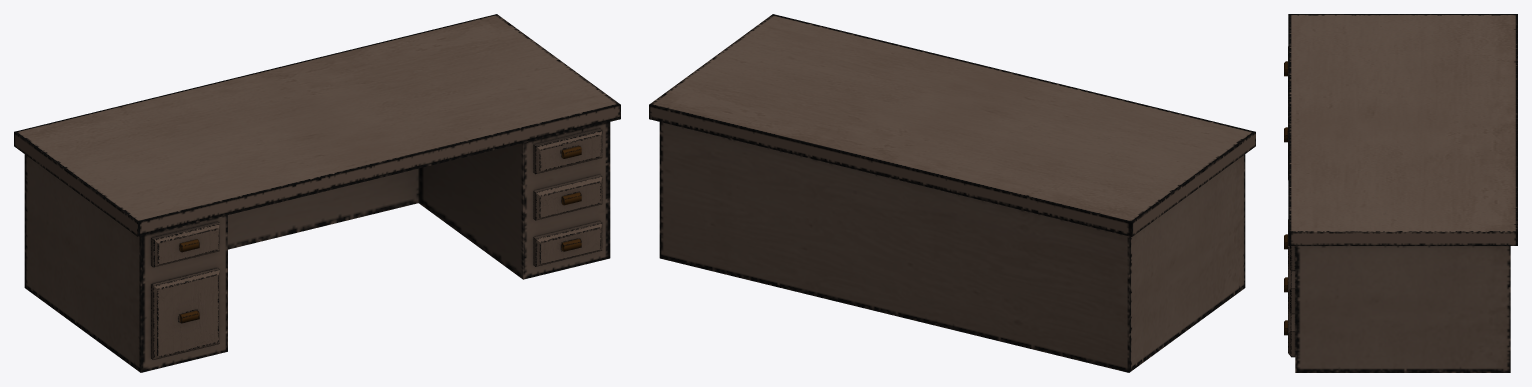
Rendered from desk.fbx.
3 views of the same model, side by side, from view 1: azimuth 30°, elevation 25°; view 2: azimuth 150°, elevation 25°; view 3: azimuth 270°, elevation 25° (orthographic). The views are drawn at different scales.
Visible parts, largest first — view 1: desk; view 2: desk; view 3: desk.
Boxes of the visible parts, x1,y1,x2,y2 form: desk: (14, 14, 620, 372); desk: (649, 14, 1255, 372); desk: (1284, 14, 1517, 372).
Size of the model in its own units: 720 by 221 by 326.
